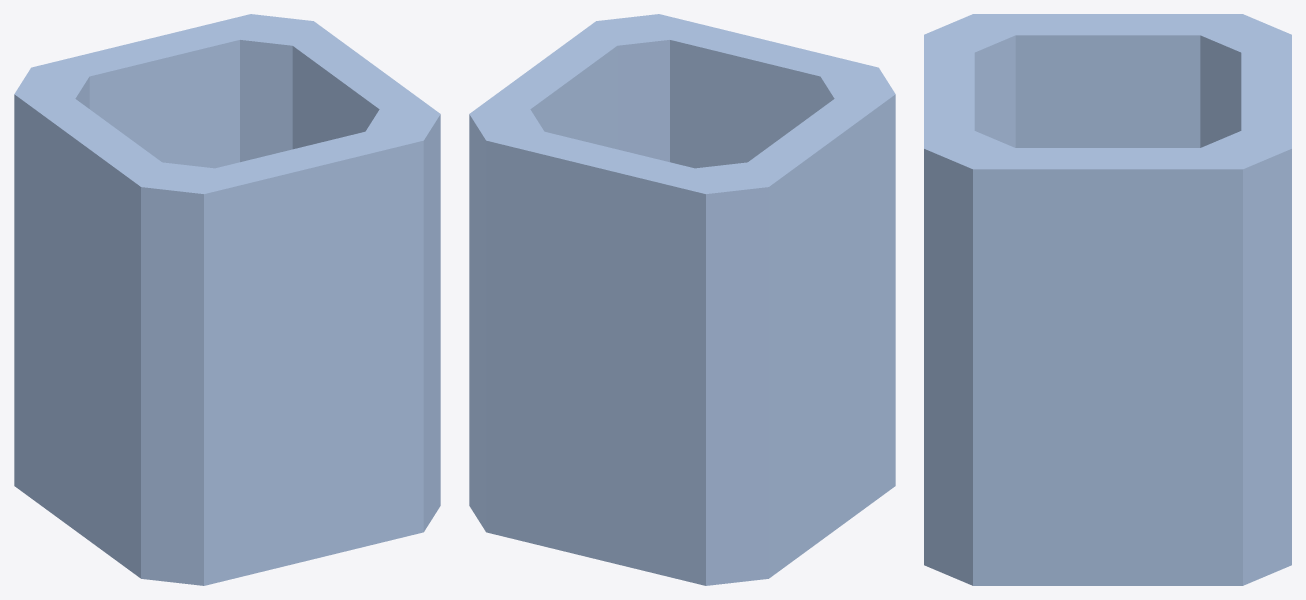
File: ShipyardCollider.fbx
The picture shows the model from 3 angles, left to right: view 1: azimuth 30°, elevation 25°; view 2: azimuth 150°, elevation 25°; view 3: azimuth 270°, elevation 25°; orthographic projection. The views are drawn at different scales.
Parts seen in each view (by area): view 1: ShipyardCollider; view 2: ShipyardCollider; view 3: ShipyardCollider.
Part boxes in pixels (<box>): ShipyardCollider: <box>14,14,440,585</box>; ShipyardCollider: <box>469,14,895,585</box>; ShipyardCollider: <box>924,14,1291,585</box>.
Bounding box in the file's own units: 76014 × 95000 × 76014.
